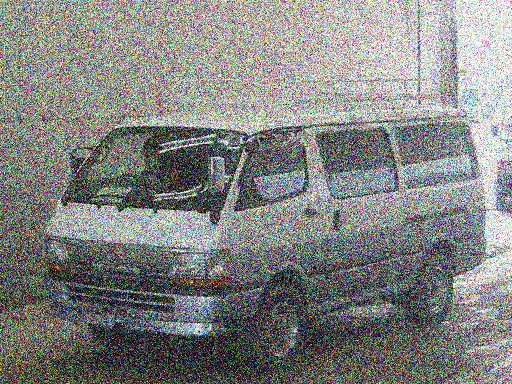van: (44, 86, 492, 355)
